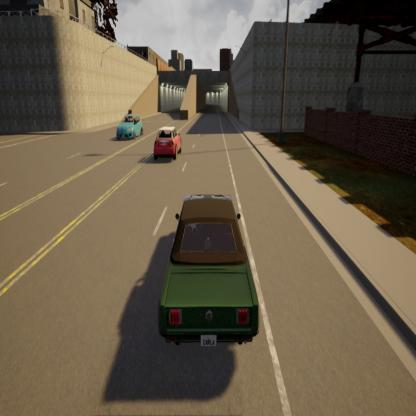Cars: (157, 191, 263, 361), (149, 122, 187, 166), (115, 111, 146, 144)
